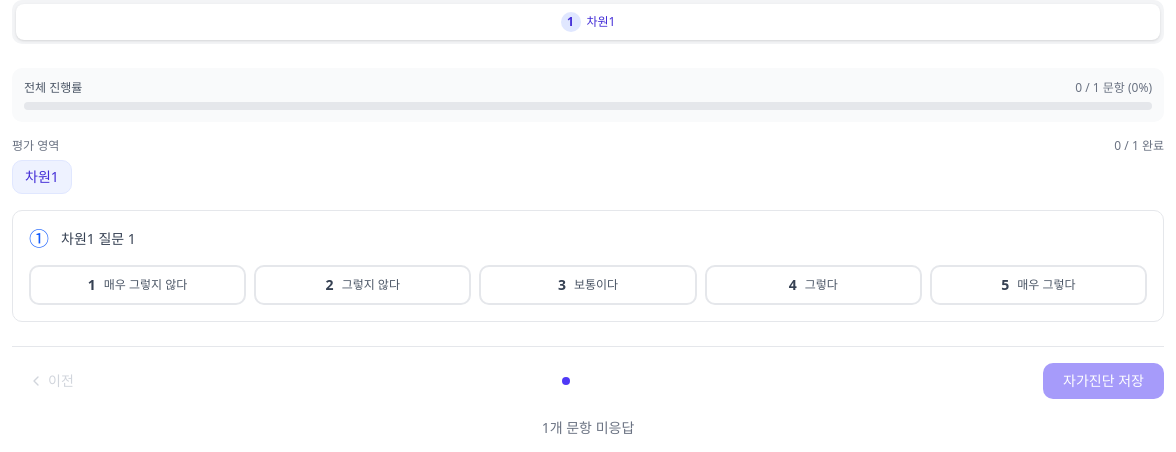
SelfAssessmentForm › 제출 › 모든 질문 응답 후 제출 버튼이 활성화된다
Click the button "1 매우 그렇지 않다".
click(138, 285)  # box [29, 265, 246, 305]
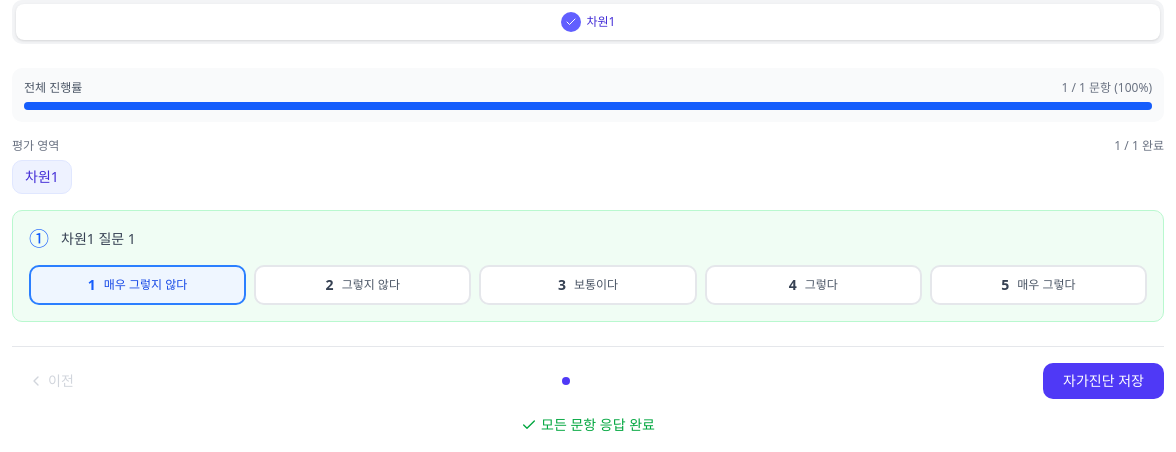
Expected: the button "자가진단 저장" is enabled, [1043, 363, 1164, 399]
